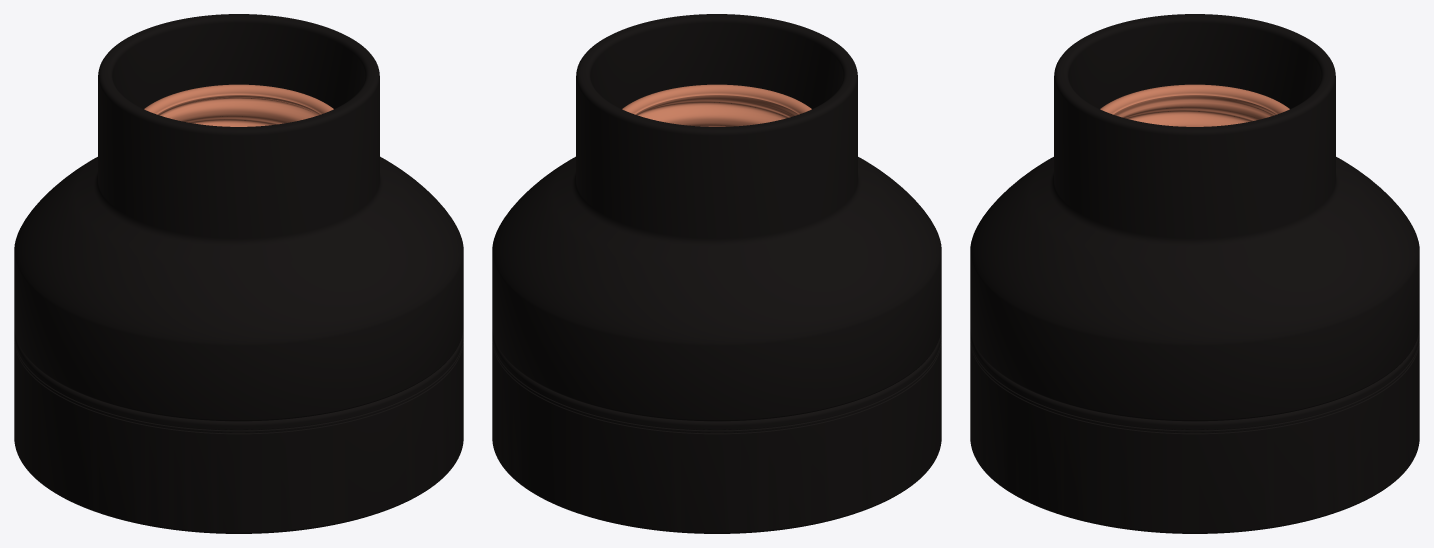
File: lamp_black.glb
3 renders of one model, left to right at view 1: azimuth 30°, elevation 25°; view 2: azimuth 150°, elevation 25°; view 3: azimuth 270°, elevation 25°, orthographic.
Parts seen in each view (by area): view 1: LampCover, BlackResin, CopperShell; view 2: LampCover, BlackResin, CopperShell; view 3: LampCover, BlackResin, CopperShell.
Part boxes in pixels (<box>): LampCover: <box>14,14,463,421</box>; BlackResin: <box>14,329,463,533</box>; CopperShell: <box>144,84,333,126</box>; LampCover: <box>492,14,941,421</box>; BlackResin: <box>492,329,941,533</box>; CopperShell: <box>622,84,811,126</box>; LampCover: <box>970,14,1419,421</box>; BlackResin: <box>970,329,1419,533</box>; CopperShell: <box>1100,84,1289,126</box>.
Size of the model in its own units: 0.056 by 0.0506 by 0.056.
